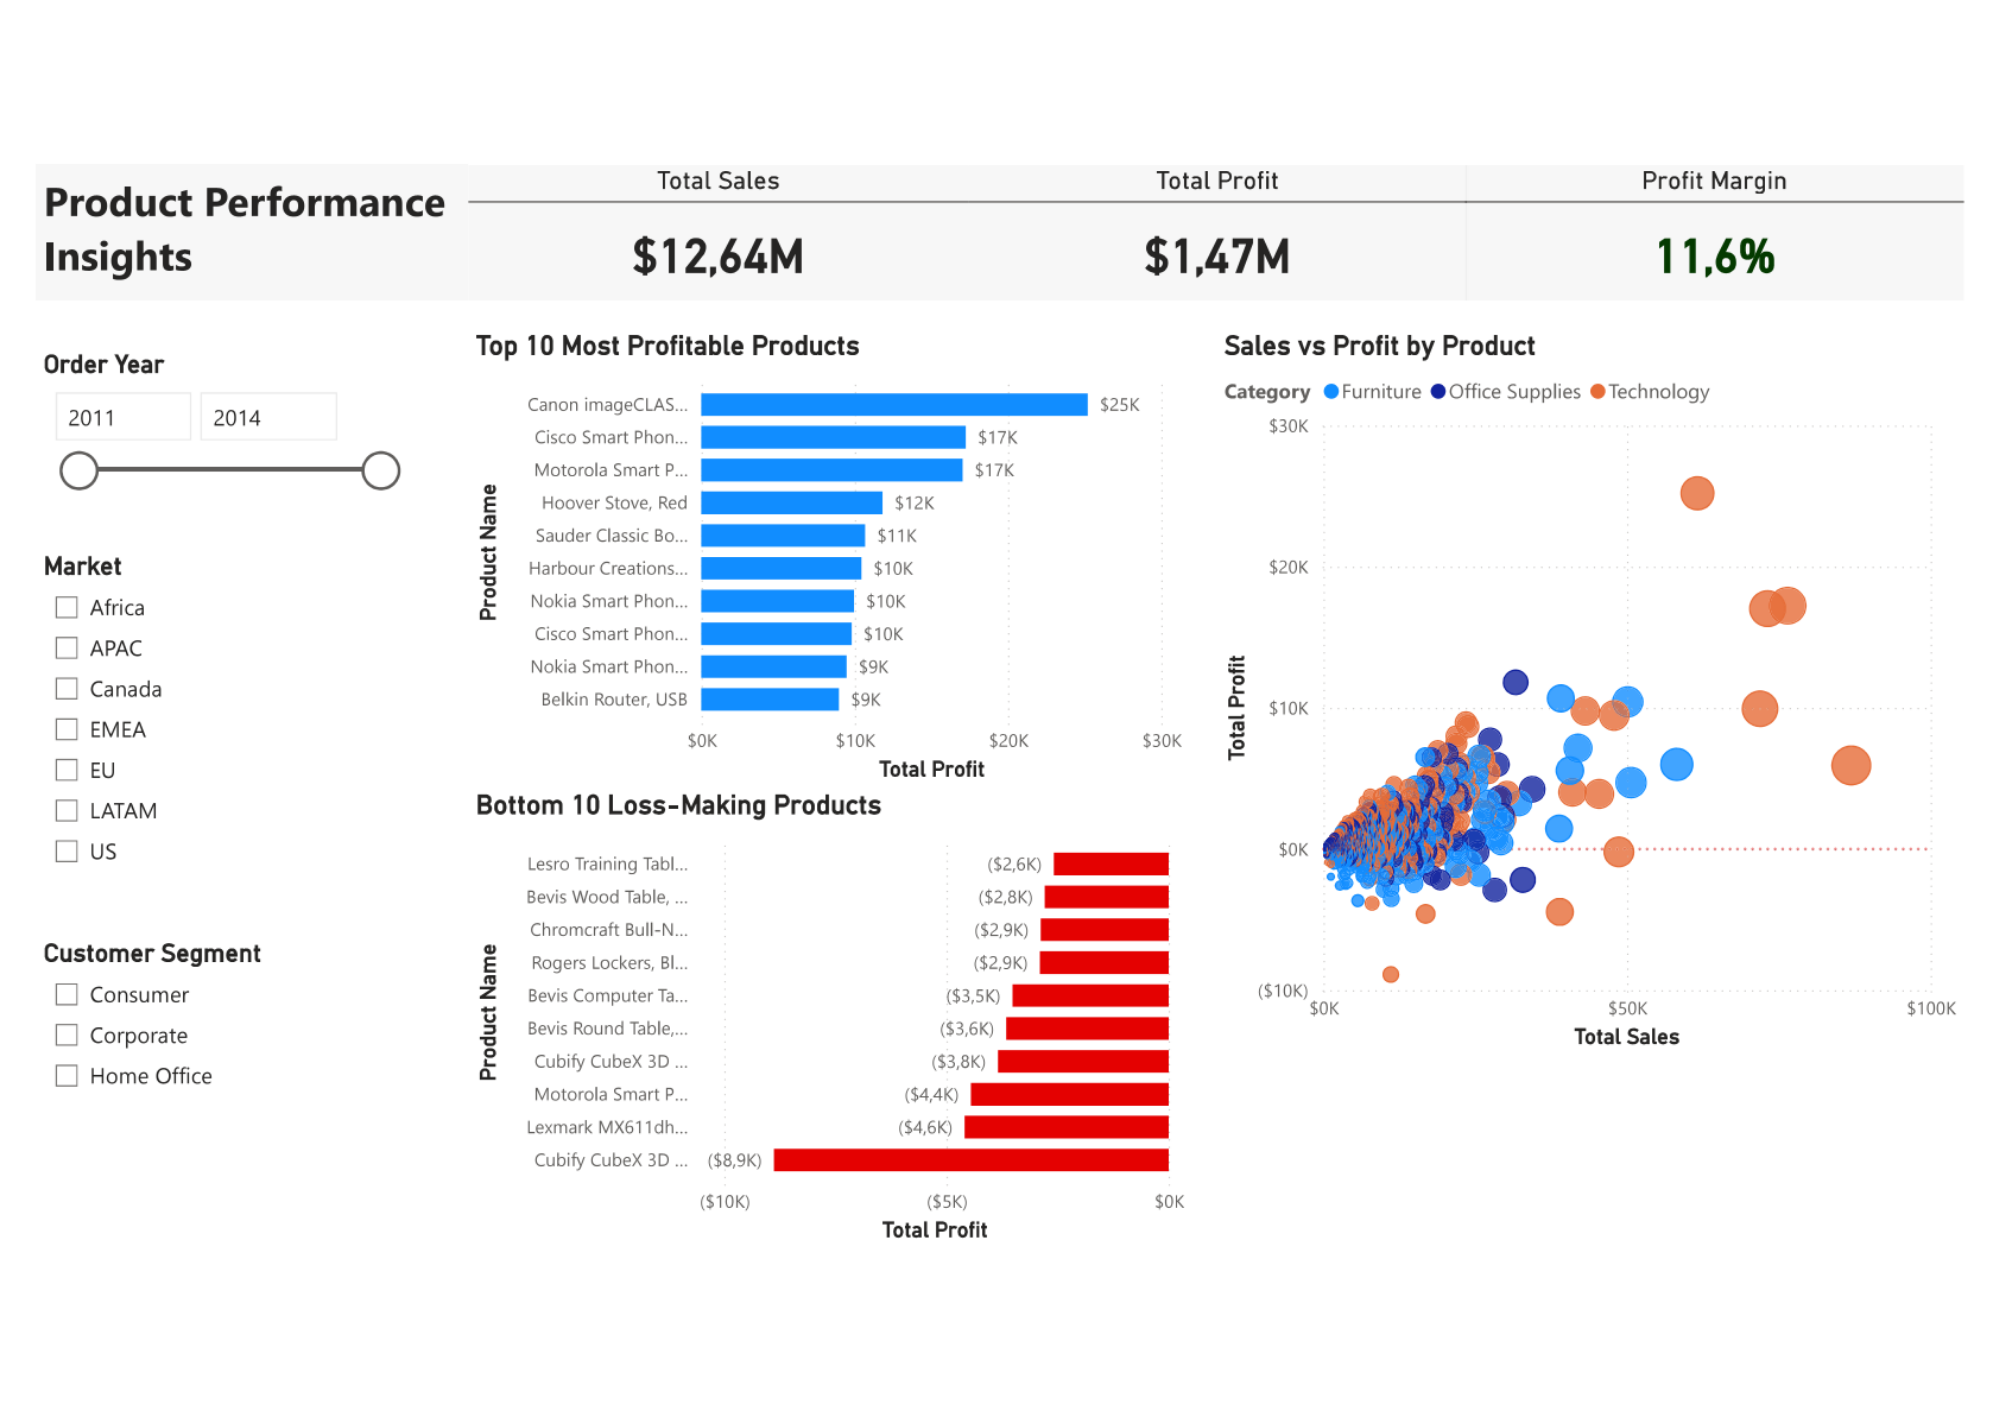

What the dashboard file says about the page in this screenshot:
{"tool":"powerbi","page":{"name":"Product Performance Insights","canvas":[1280,720],"ordinal":2},"visuals":[{"type":"clusteredBarChart","title":"Top 10 Most Profitable Products","fields":{"Category":["fact_sales.product_name"],"Y":["fact_sales.Total Profit"]},"box":[287.3,109.2,479.7,305],"z":0},{"type":"clusteredBarChart","title":"Bottom 10 Loss-Making Products","fields":{"Category":["fact_sales.product_name"],"Y":["fact_sales.Total Profit"]},"box":[287.3,414.4,479.7,305.1],"z":1000},{"type":"card","title":"Total Sales","fields":{"Values":["fact_sales.Total Sales"]},"box":[287.3,0,331.3,90.2],"z":2000},{"type":"card","title":"Total Profit","fields":{"Values":["fact_sales.Total Profit"]},"box":[618.6,0,331,90.2],"z":3000},{"type":"card","title":"Profit Margin","fields":{"Values":["fact_sales.Profit Margin (%)"]},"box":[948.7,0,331.3,90.2],"z":4000},{"type":"scatterChart","title":"Sales vs Profit by Product","fields":{"X":["fact_sales.Total Sales"],"Y":["fact_sales.Total Profit"],"Series":["fact_sales.Category"],"Size":["fact_sales.Total Sales"],"Category":["fact_sales.Product Name"]},"box":[783.7,109.2,496.3,483.3],"z":5000},{"type":"textbox","box":[0,0,287,90],"z":6000},{"type":"slicer","title":"Order Year","fields":{"Values":["fact_sales.order_year"]},"box":[0,121.8,250.1,124],"z":7000},{"type":"slicer","title":"Market","fields":{"Values":["fact_sales.market"]},"box":[0,255.6,250.1,226],"z":8000},{"type":"slicer","title":"Customer Segment","fields":{"Values":["fact_sales.segment"]},"box":[0,513.4,250.1,110.8],"z":9000}]}

Visuals, with their boxes on the page's 1280x720 design canvas (x1, y1, x2, y2). These are canvas units, not pixel positions in the 2000x1414 screenshot, which may show the page scaled, cropped or inside an application window:
"Top 10 Most Profitable Products" clusteredBarChart: <box>287,109,767,414</box>
"Bottom 10 Loss-Making Products" clusteredBarChart: <box>287,414,767,720</box>
"Total Sales" card: <box>287,0,619,90</box>
"Total Profit" card: <box>619,0,950,90</box>
"Profit Margin" card: <box>949,0,1280,90</box>
"Sales vs Profit by Product" scatterChart: <box>784,109,1280,592</box>
textbox: <box>0,0,287,90</box>
"Order Year" slicer: <box>0,122,250,246</box>
"Market" slicer: <box>0,256,250,482</box>
"Customer Segment" slicer: <box>0,513,250,624</box>
